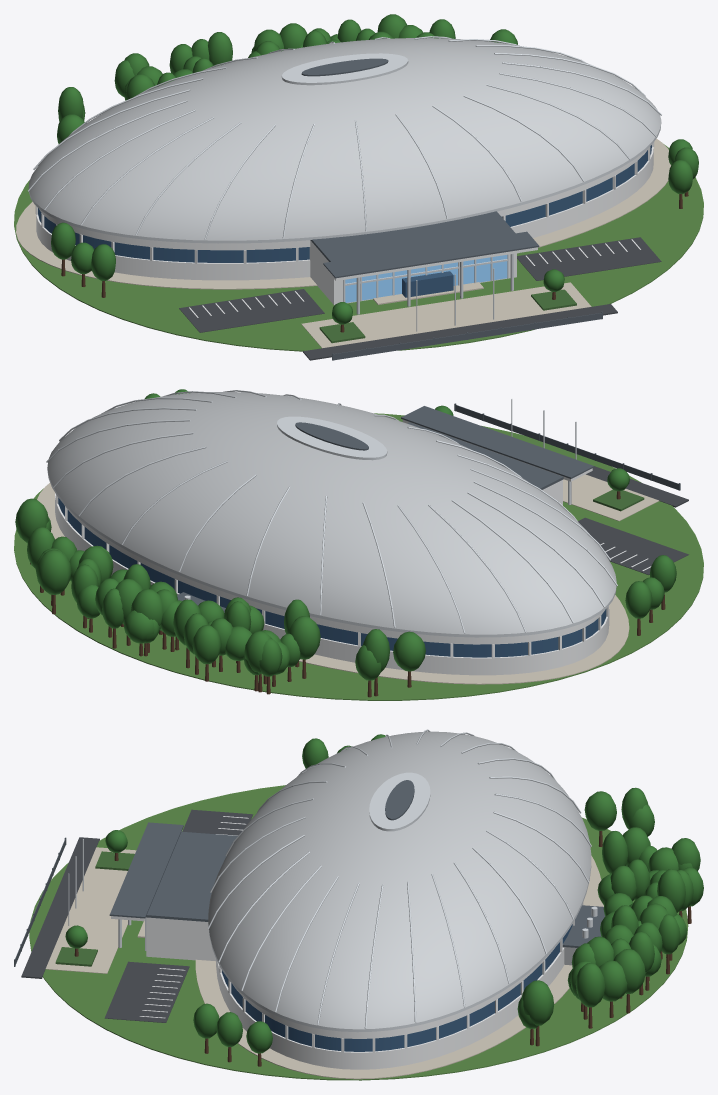
File: taereung-skating.glb
3 renders of one model, top to bottom at view 1: azimuth 30°, elevation 25°; view 2: azimuth 150°, elevation 25°; view 3: azimuth 270°, elevation 25°, orthographic. The views are drawn at different scales.
Bounding box in the file's own units: 136 × 28.45 × 132.
